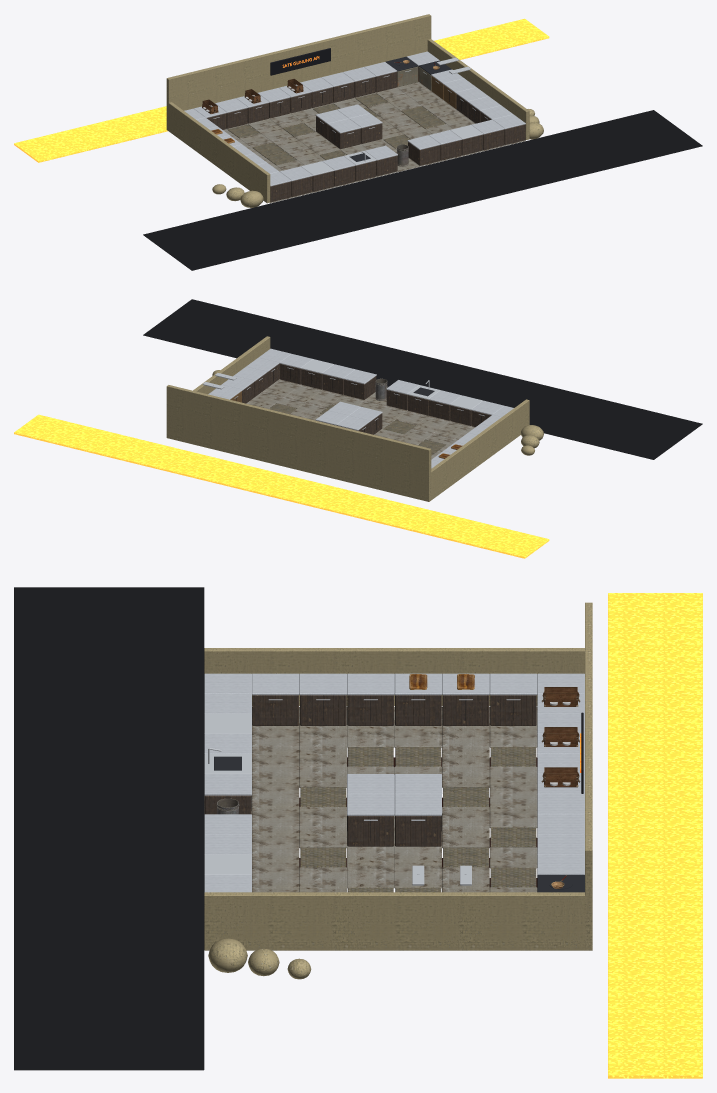
The model's file is lava.glb.
3 views of the same model, one above another, from view 1: azimuth 30°, elevation 25°; view 2: azimuth 150°, elevation 25°; view 3: azimuth 270°, elevation 25° (orthographic). The views are drawn at different scales.
Parts seen in each view (by area): view 1: statis, kisi_0, kisi_1; view 2: statis, kisi_0; view 3: statis, kisi_0, kisi_1.
Part boxes in pixels (left/top/right/bottom): statis: left=14, top=14, right=702, bottom=270; kisi_0: left=228, top=93, right=445, bottom=159; kisi_1: left=264, top=103, right=433, bottom=165; statis: left=14, top=299, right=702, bottom=558; kisi_0: left=269, top=403, right=433, bottom=455; statis: left=14, top=587, right=702, bottom=1078; kisi_0: left=300, top=747, right=536, bottom=892; kisi_1: left=300, top=747, right=536, bottom=892.
Bounding box in the file's own units: 28.8 × 3.3 × 17.38.
Materials: 24 (15 with a texture image).
